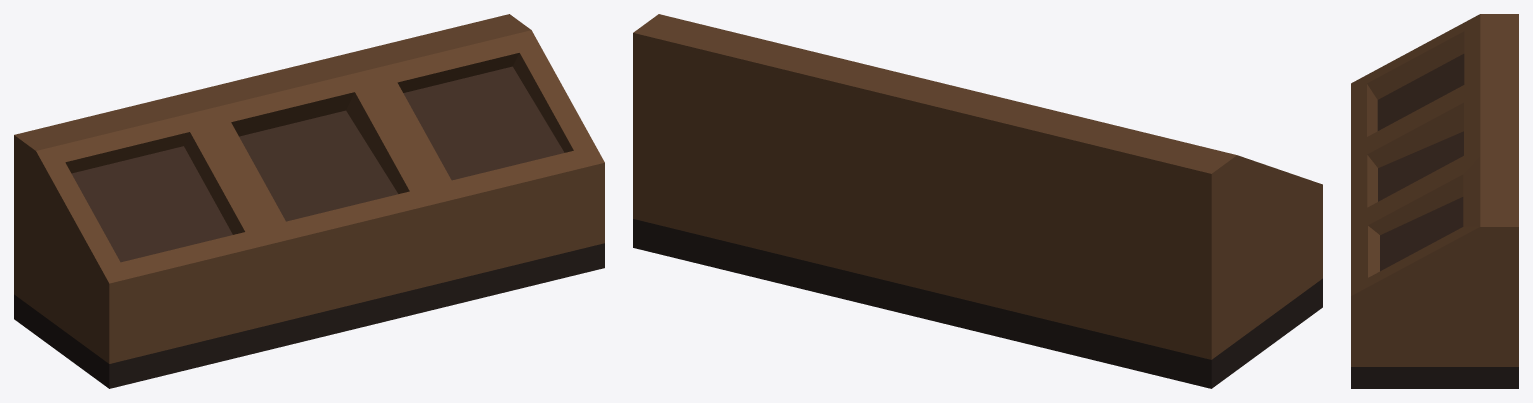
Rendered from bacsBois_x3.fbx.
3 renders of one model, left to right at view 1: azimuth 30°, elevation 25°; view 2: azimuth 150°, elevation 25°; view 3: azimuth 270°, elevation 25°, orthographic. The views are drawn at different scales.
Parts seen in each view (by area): view 1: Cube.013; view 2: Cube.013; view 3: Cube.013.
Part boxes in pixels (<box>): Cube.013: <box>14,14,604,388</box>; Cube.013: <box>633,14,1322,388</box>; Cube.013: <box>1351,14,1518,388</box>.
Bounding box in the file's own units: 300 × 107 × 100.
